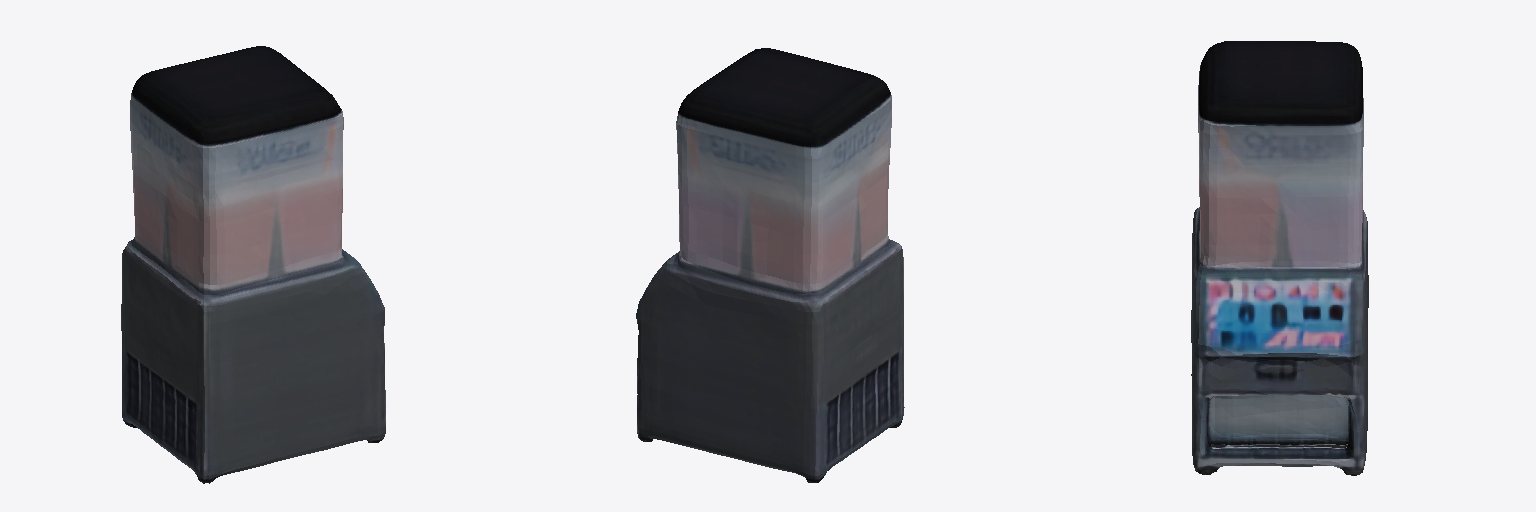
3 views of the same model, side by side, from view 1: azimuth 30°, elevation 25°; view 2: azimuth 150°, elevation 25°; view 3: azimuth 270°, elevation 25° (orthographic).
Visible parts, largest first — view 1: e0c0d4efd6b_a_slushie_machine__:Mesh; view 2: e0c0d4efd6b_a_slushie_machine__:Mesh; view 3: e0c0d4efd6b_a_slushie_machine__:Mesh.
Boxes of the visible parts, x1,y1,x2,y2 form: e0c0d4efd6b_a_slushie_machine__:Mesh: [121, 46, 385, 483]; e0c0d4efd6b_a_slushie_machine__:Mesh: [636, 48, 904, 482]; e0c0d4efd6b_a_slushie_machine__:Mesh: [1191, 41, 1368, 475].
Bounding box in the file's own units: 0.5617 × 0.9991 × 0.4509.
Materials: 1 (1 with a texture image).